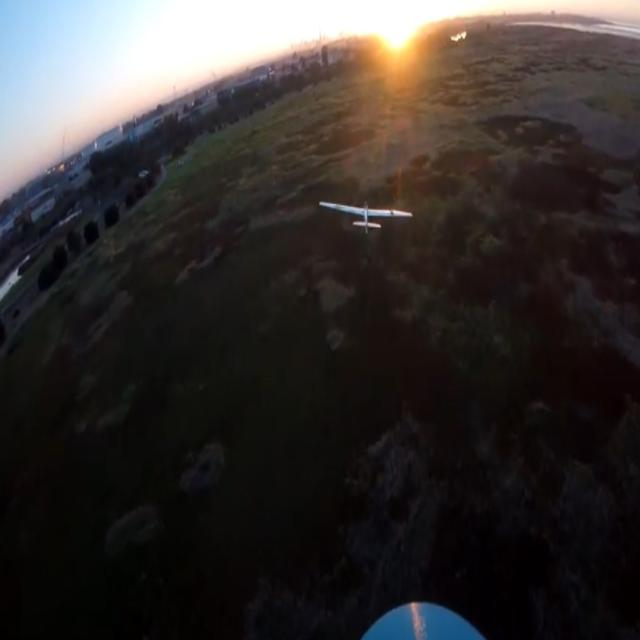iha: (350, 198, 380, 236)
